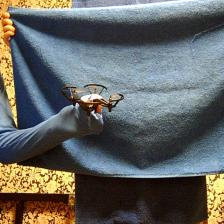drone: (60, 84, 125, 115)
